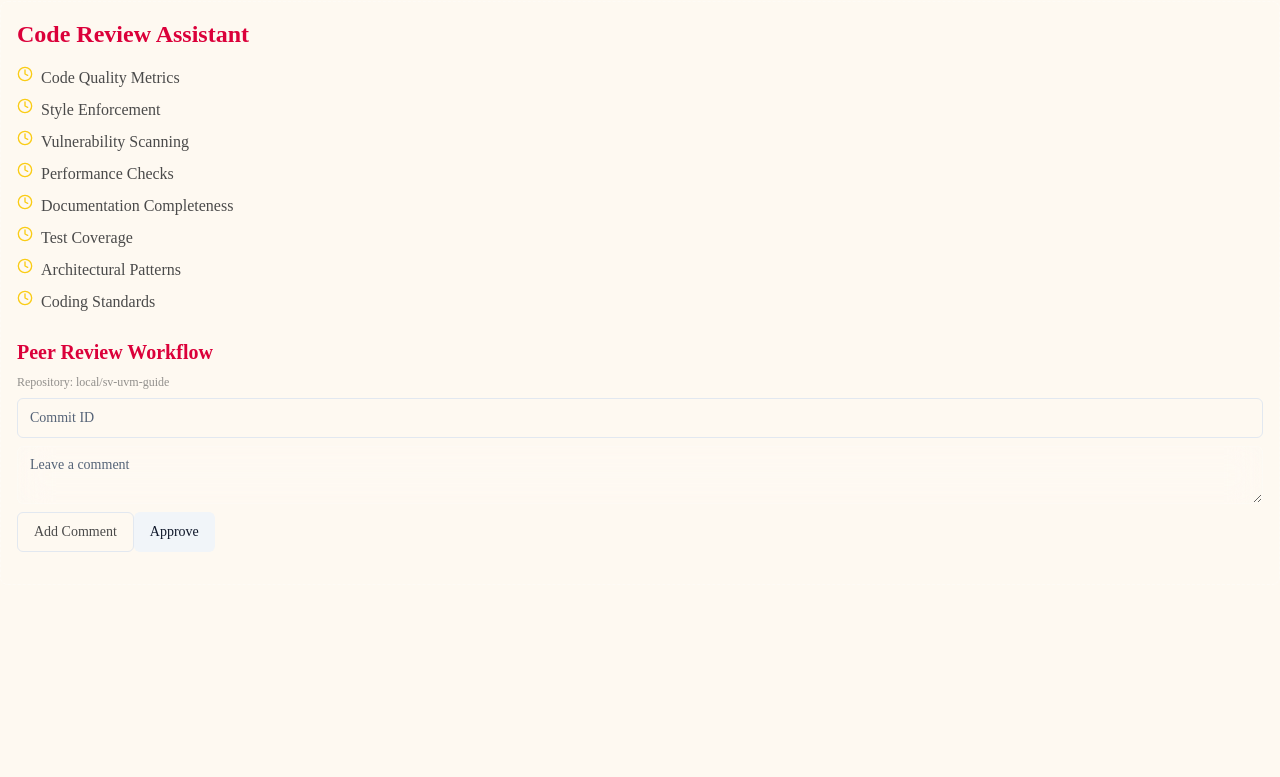
Test: CodeReviewAssistant component › adds trimmed comments and toggles approval
Step 1. Type "abcdef1" into the field with placeholder "Commit ID" → (640, 418), box [17,398,1263,438]
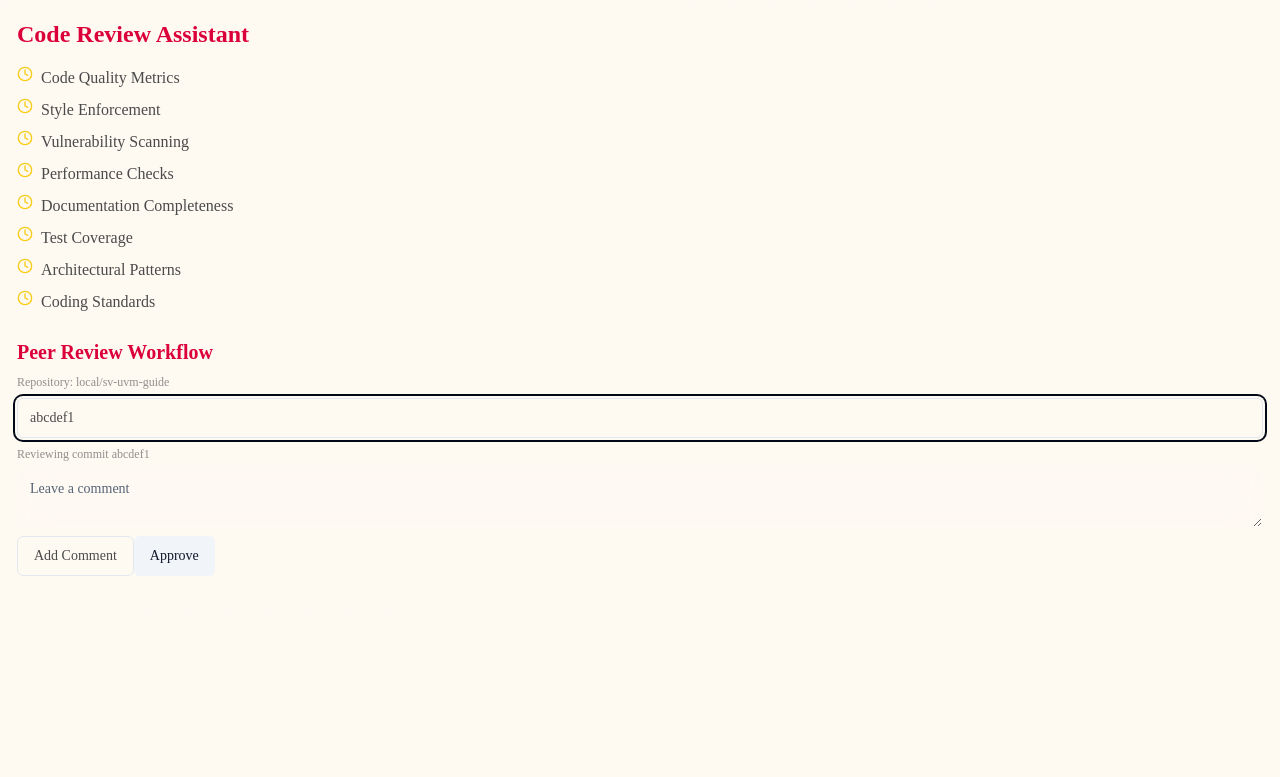
Step 2. Type "  first comment  " into the text box with placeholder "Leave a comment" → (640, 499), box [17,470,1263,528]
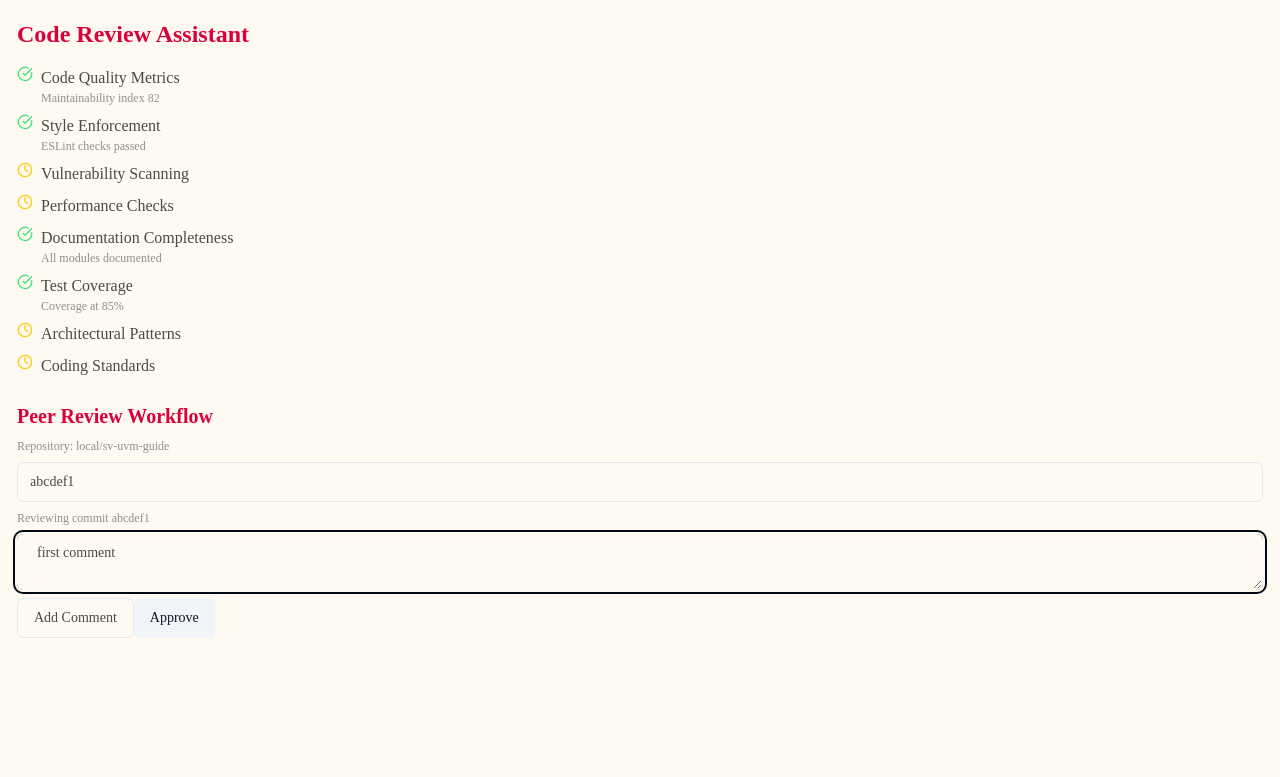
Step 3. Click the button "Add Comment" → (75, 618), box [17,598,134,638]
(page scrolled)
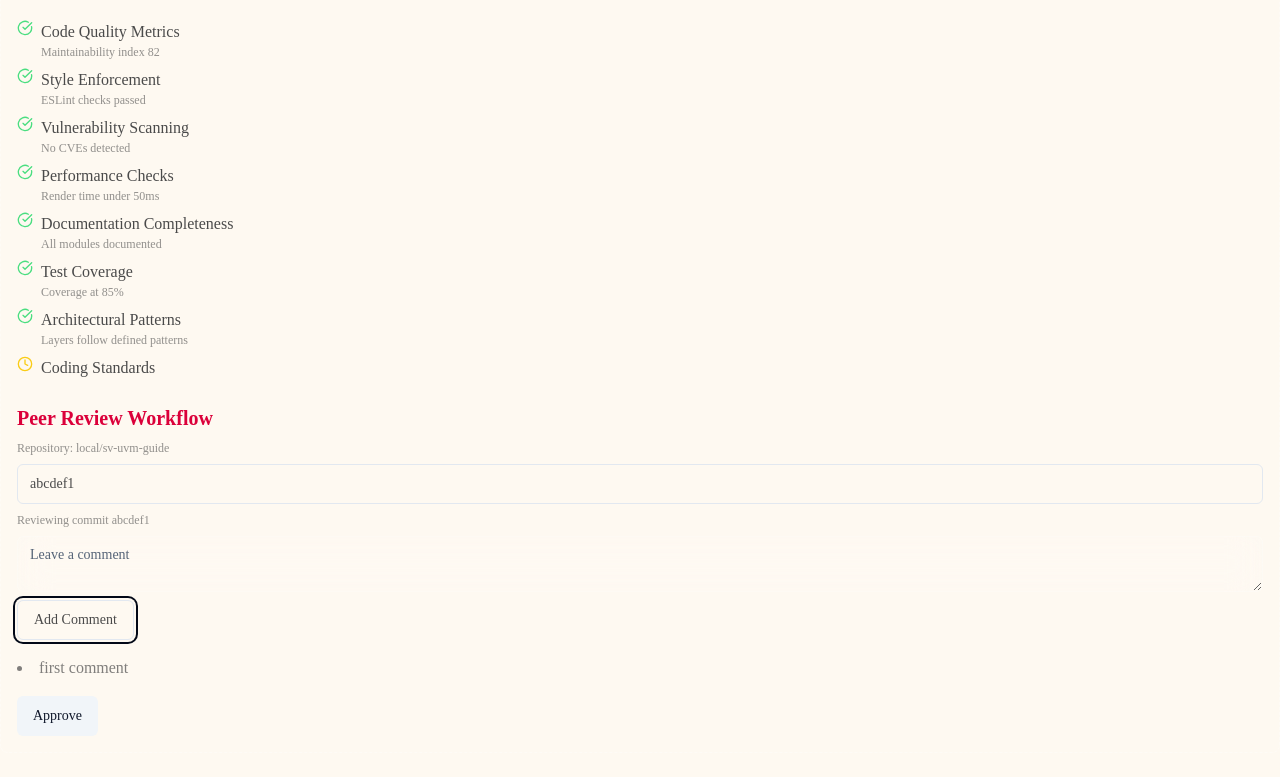
Expected: the list item "first comment" is shown, [39,659,128,676]
Step 4. Click the button "Approve" → (58, 716), box [17,696,98,736]
(page scrolled)
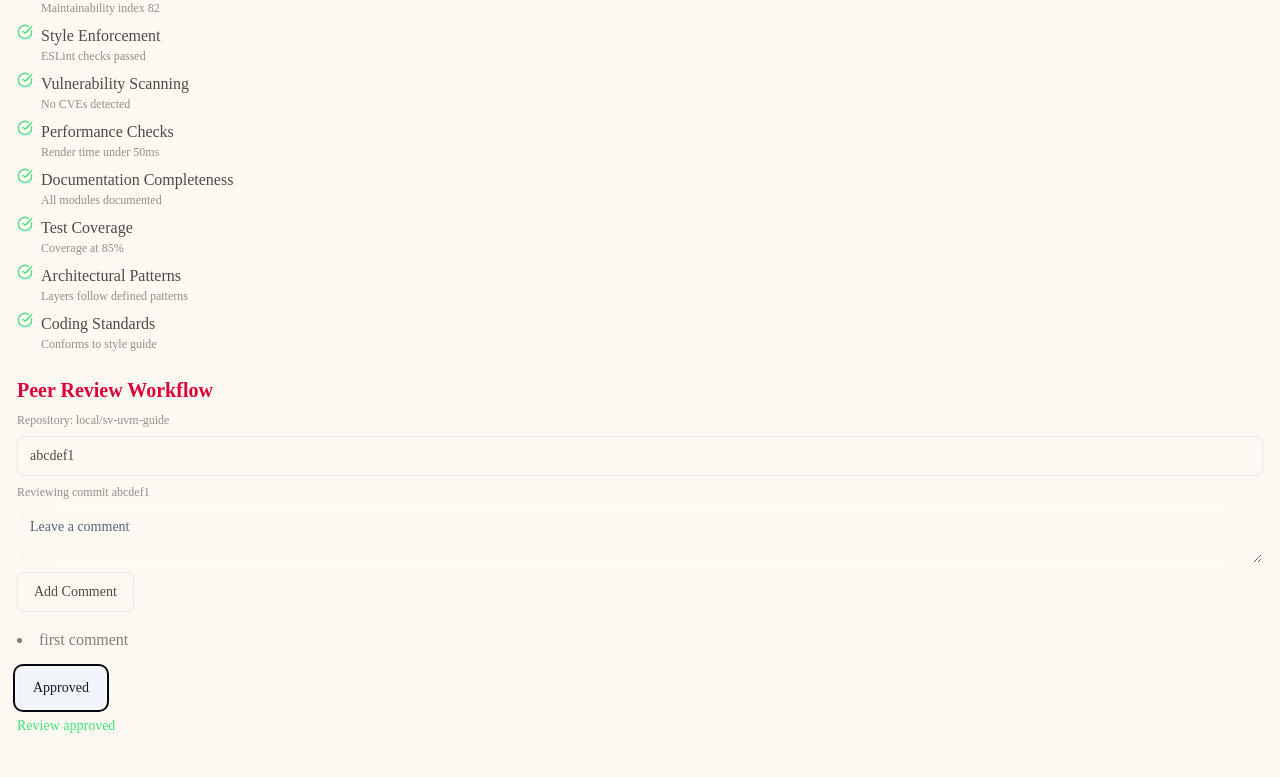
Expected: the button "Approved" is shown, [17,668,105,708]
Expected: the text "Review approved" is shown, [17,718,115,733]
